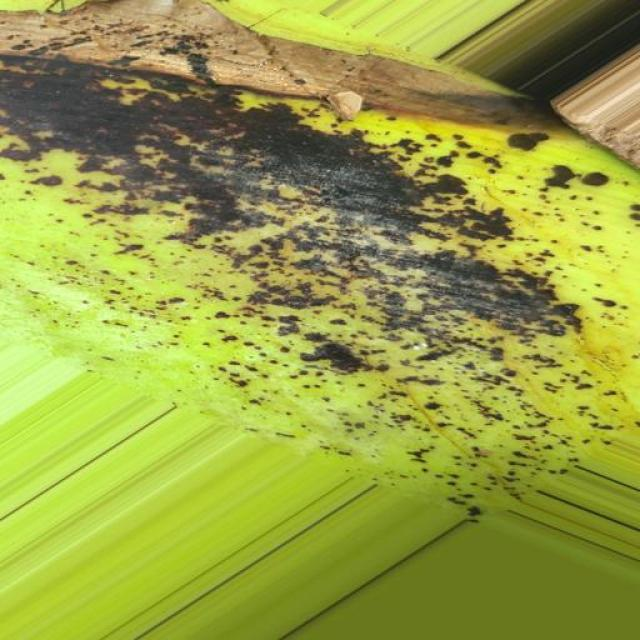Anthracnose: (4, 0, 640, 500)
